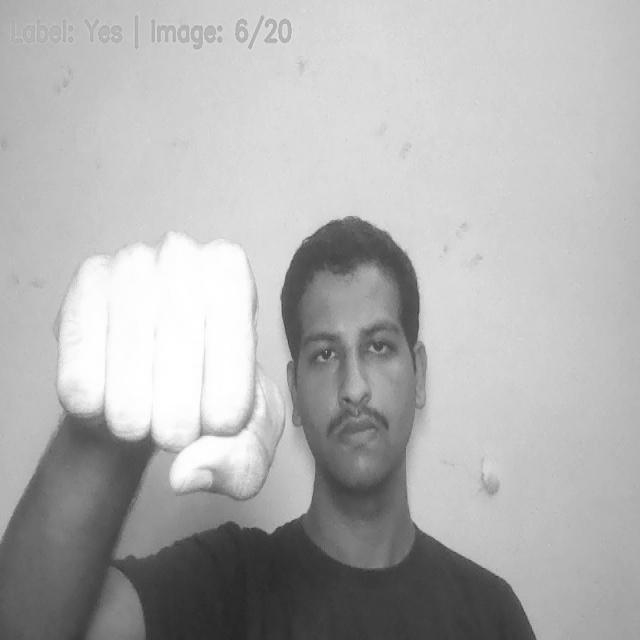Yes: (55, 228, 286, 515)
